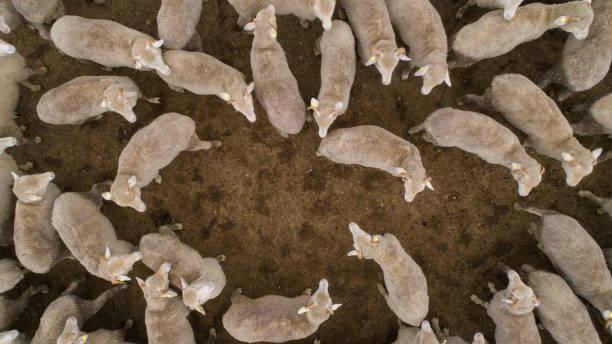sheep: (486, 69, 602, 193), (418, 104, 546, 204), (96, 110, 227, 203), (340, 216, 441, 328), (448, 1, 596, 77), (517, 202, 612, 310), (236, 4, 306, 149), (314, 121, 433, 205), (45, 188, 140, 288), (38, 6, 160, 83), (152, 44, 263, 122), (136, 229, 229, 312), (27, 73, 141, 137), (223, 280, 336, 344), (305, 17, 361, 143), (519, 255, 593, 344), (385, 1, 453, 94), (338, 1, 405, 94), (7, 165, 60, 280), (127, 271, 197, 344), (487, 260, 542, 338)
